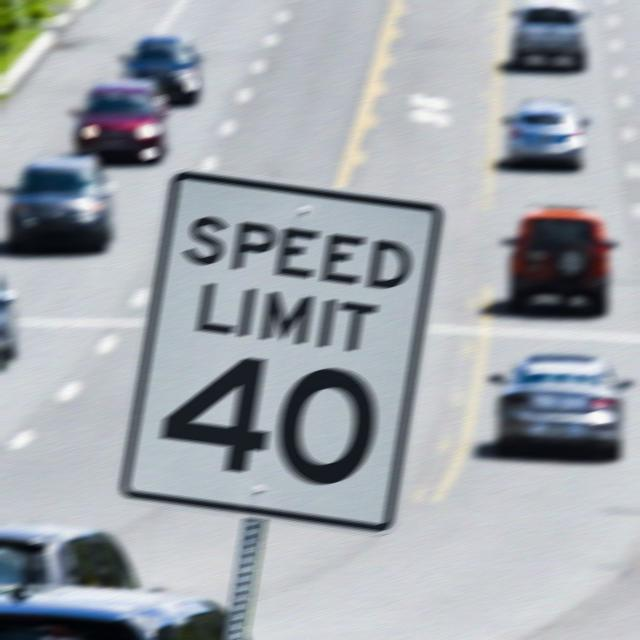speedLimit40: (110, 165, 452, 544)
